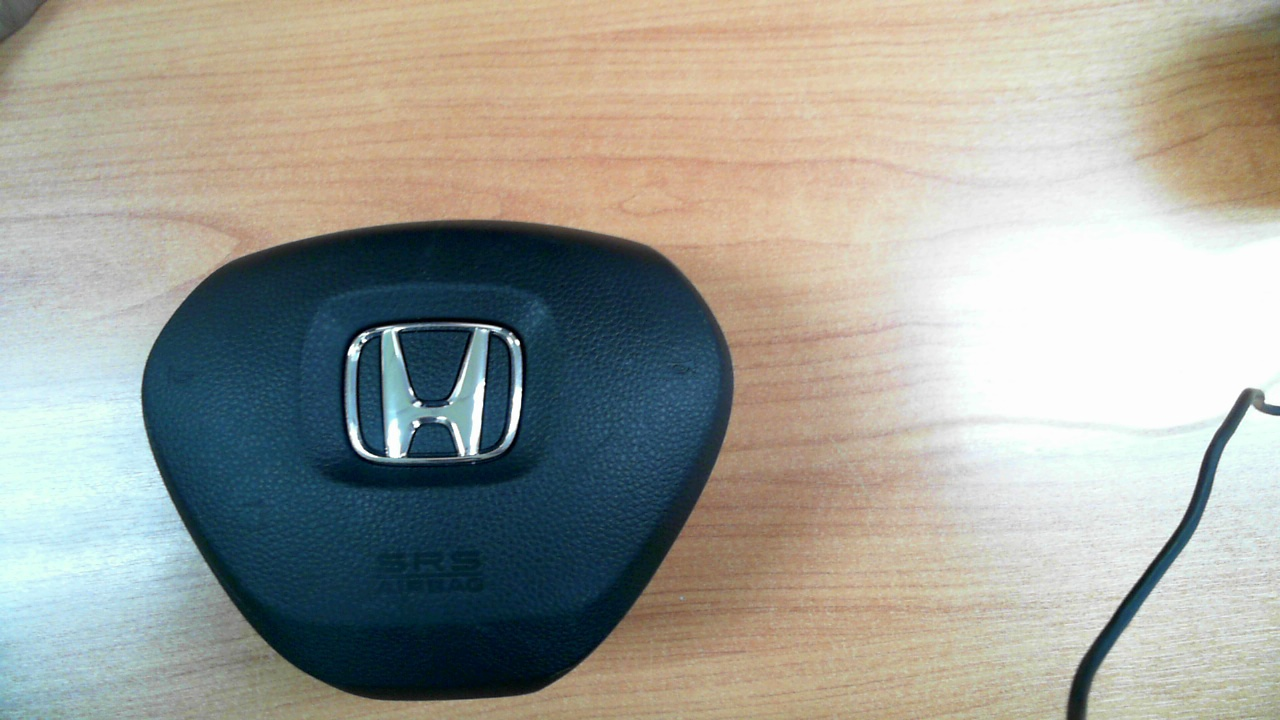Airbag: (139, 220, 735, 703)
Honda: (343, 324, 523, 460)
